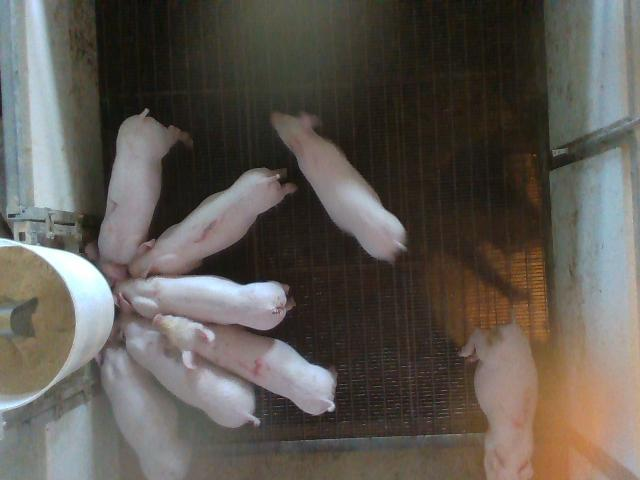pig-1: (129, 168, 296, 278)
pig-3: (460, 321, 538, 478)
pig-4: (152, 314, 335, 414)
